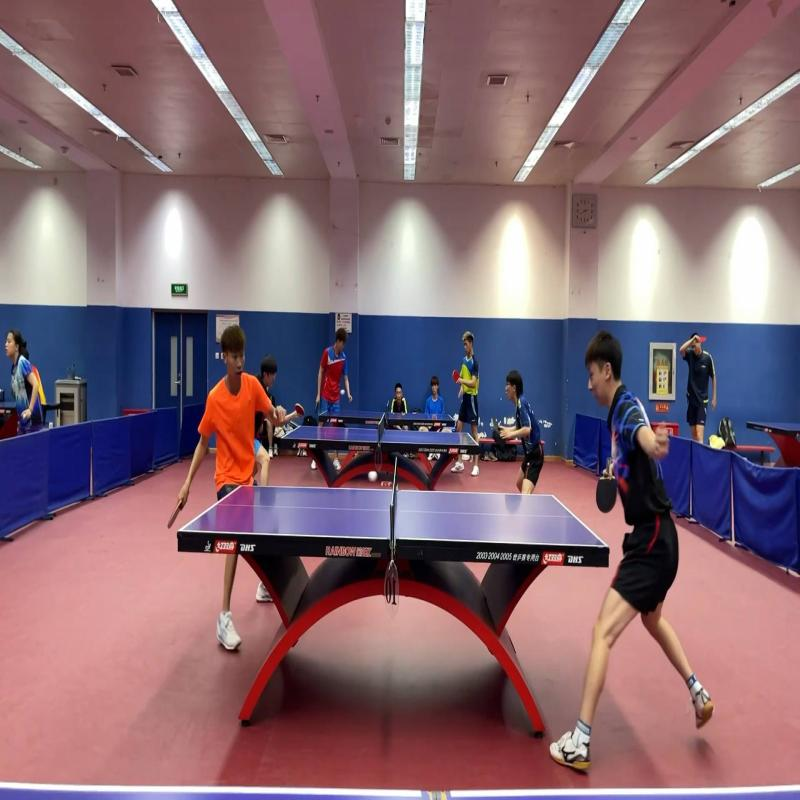bats: (156, 489, 196, 541)
